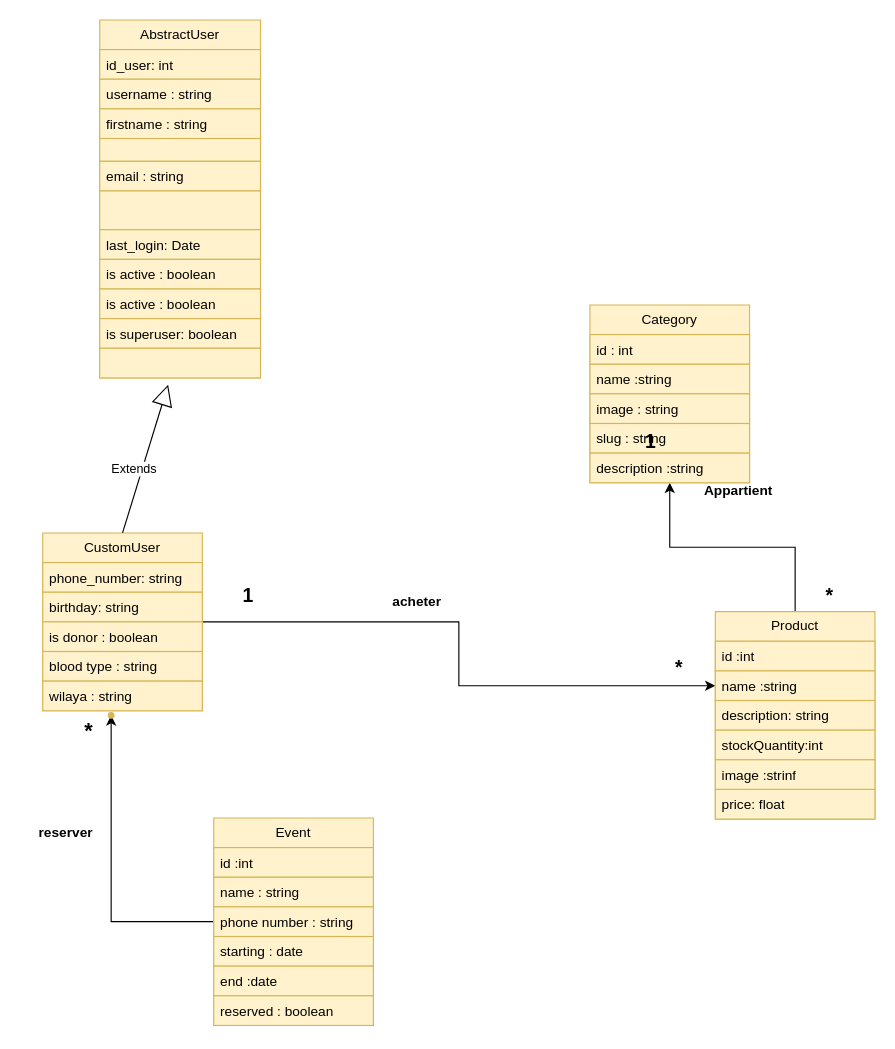
The diagram is 895 pixels wide and 1049 high, and some of its shapes have lost their labels. The shapes that lost their labels are listed below. From the top down, each one's centre as x and y in pixels, then its label:
At point (179, 149): "lastname : string".
At point (179, 210): "password : string".
At point (179, 362): "group : string".
